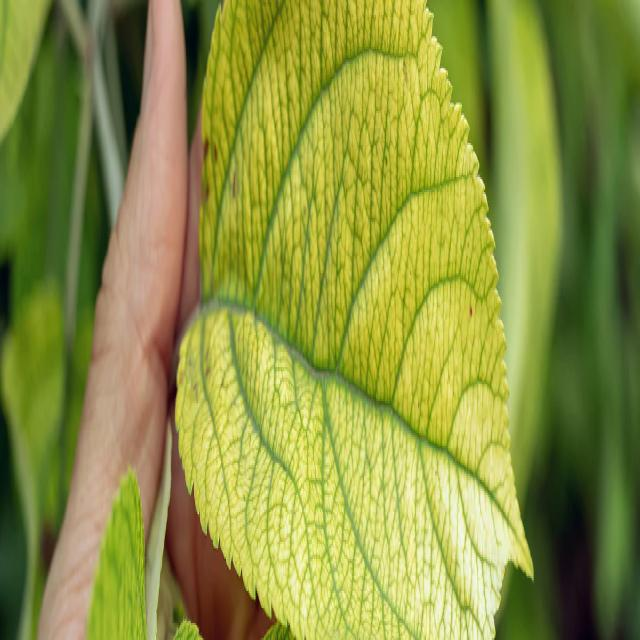Chlorosis: (179, 0, 544, 640)
